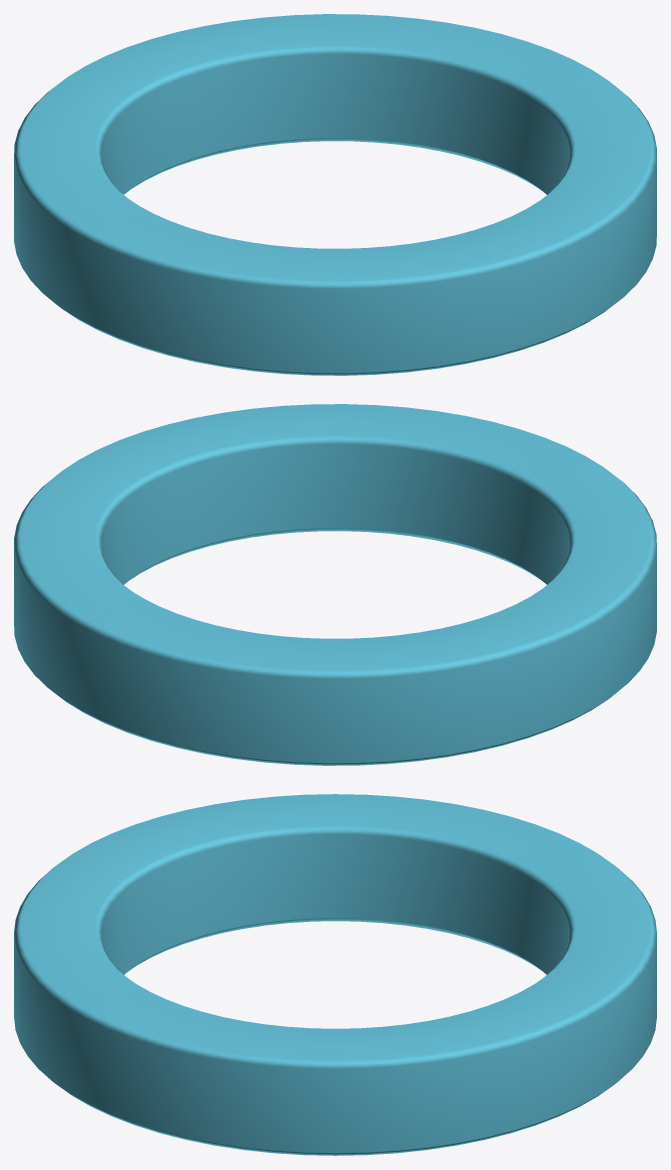
3 views of the same model, one above another, from view 1: azimuth 30°, elevation 25°; view 2: azimuth 150°, elevation 25°; view 3: azimuth 270°, elevation 25° (orthographic).
Visible parts, largest first — view 1: seal_body; view 2: seal_body; view 3: seal_body.
Part boxes in pixels (x1,y1,x2,y2): seal_body: [14, 14, 656, 375]; seal_body: [14, 404, 656, 765]; seal_body: [14, 794, 656, 1155].
Bounding box in the file's own units: 0.055 × 0.009 × 0.055.
